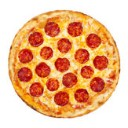pepperonipizza: (8, 7, 120, 119)
